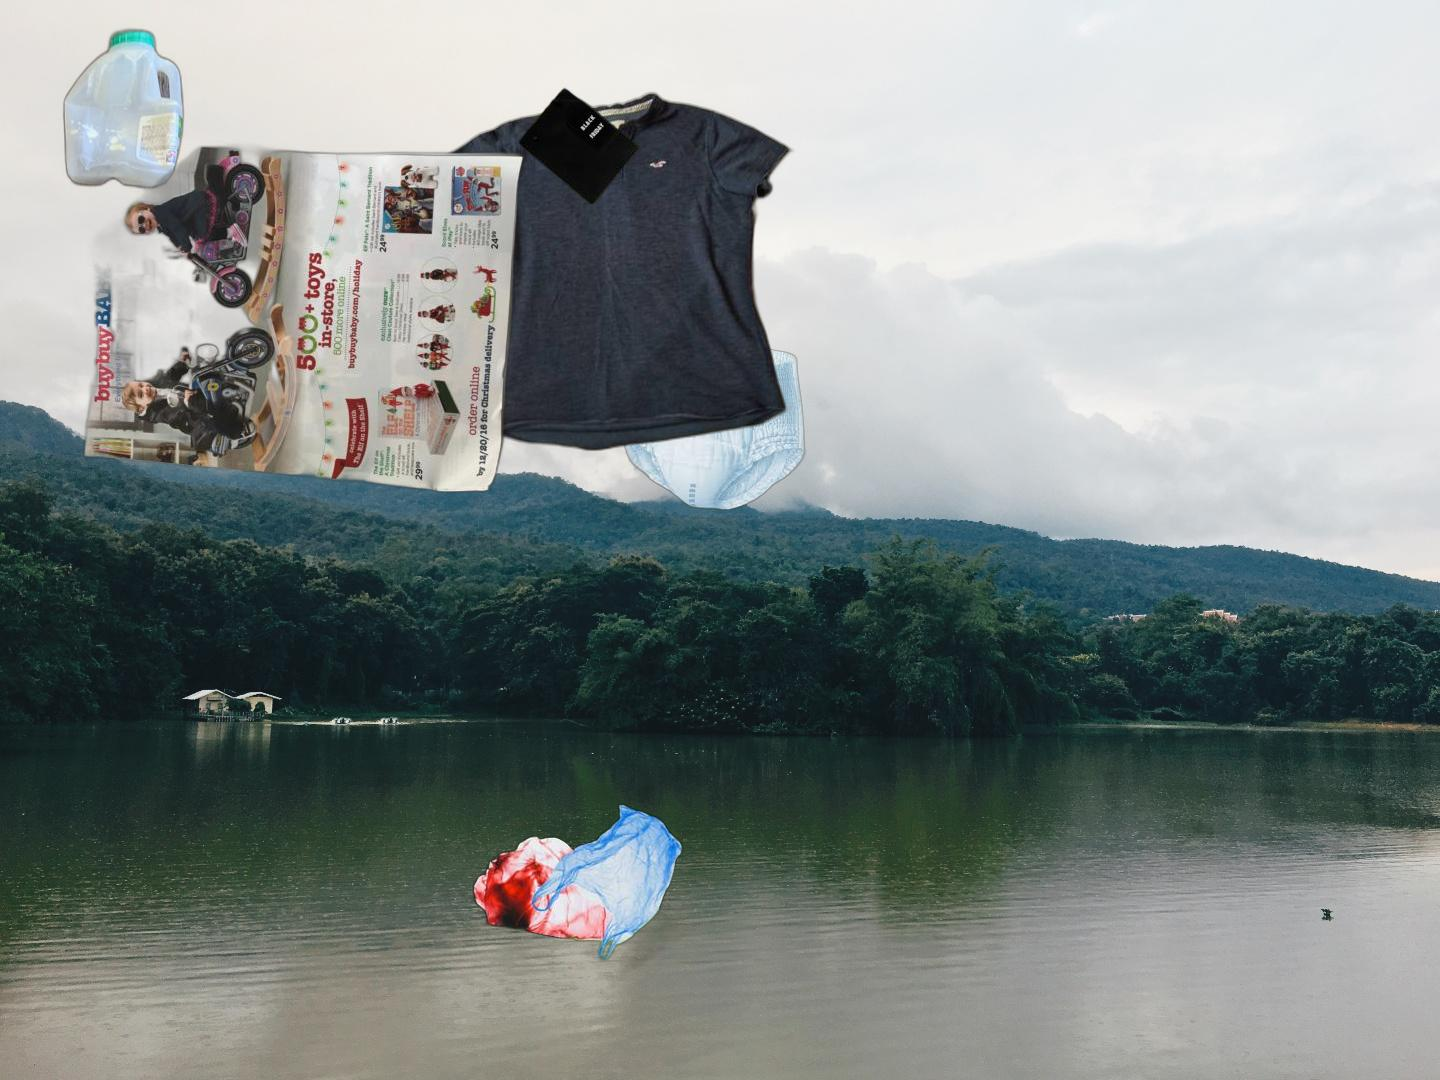clothes: (432, 88, 798, 456)
paper: (78, 140, 531, 493)
paper-bag: (516, 86, 641, 206)
plastic-bag: (471, 801, 705, 990)
plastic-bottles: (59, 23, 188, 196)
trash: (620, 340, 808, 513)
trashbox-cardboard: (1202, 1077, 1440, 1080)
